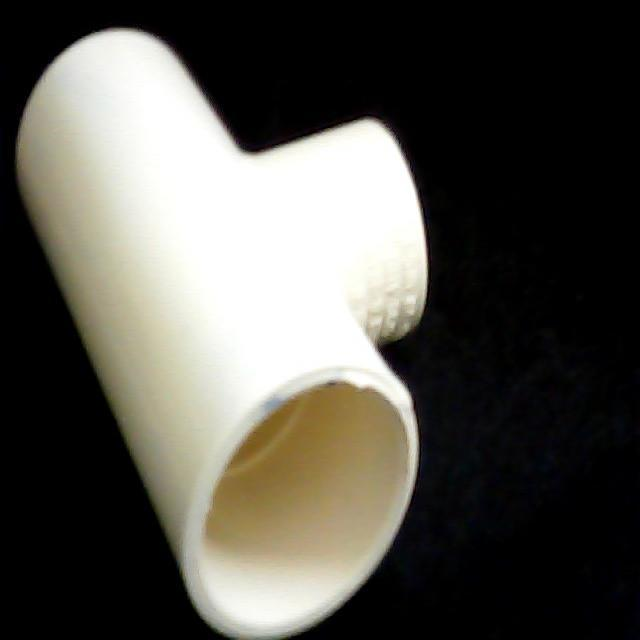T Joint: (15, 29, 429, 640)
